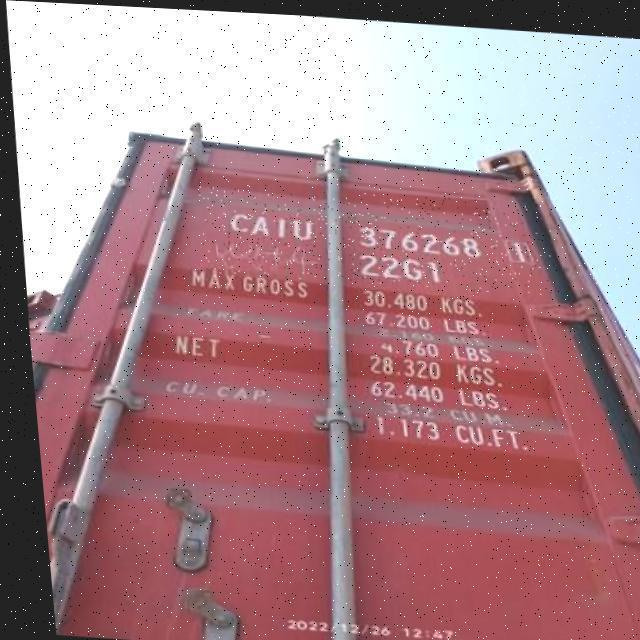container_number_h: (192, 178, 551, 291)
